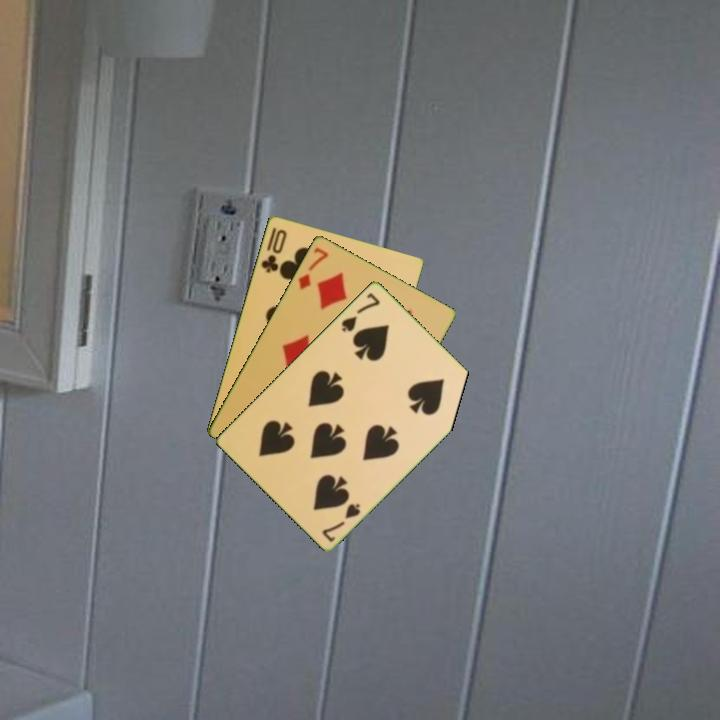10c: (257, 225, 289, 275)
7d: (295, 243, 331, 292)
7s: (338, 288, 383, 335), (318, 499, 363, 544)
